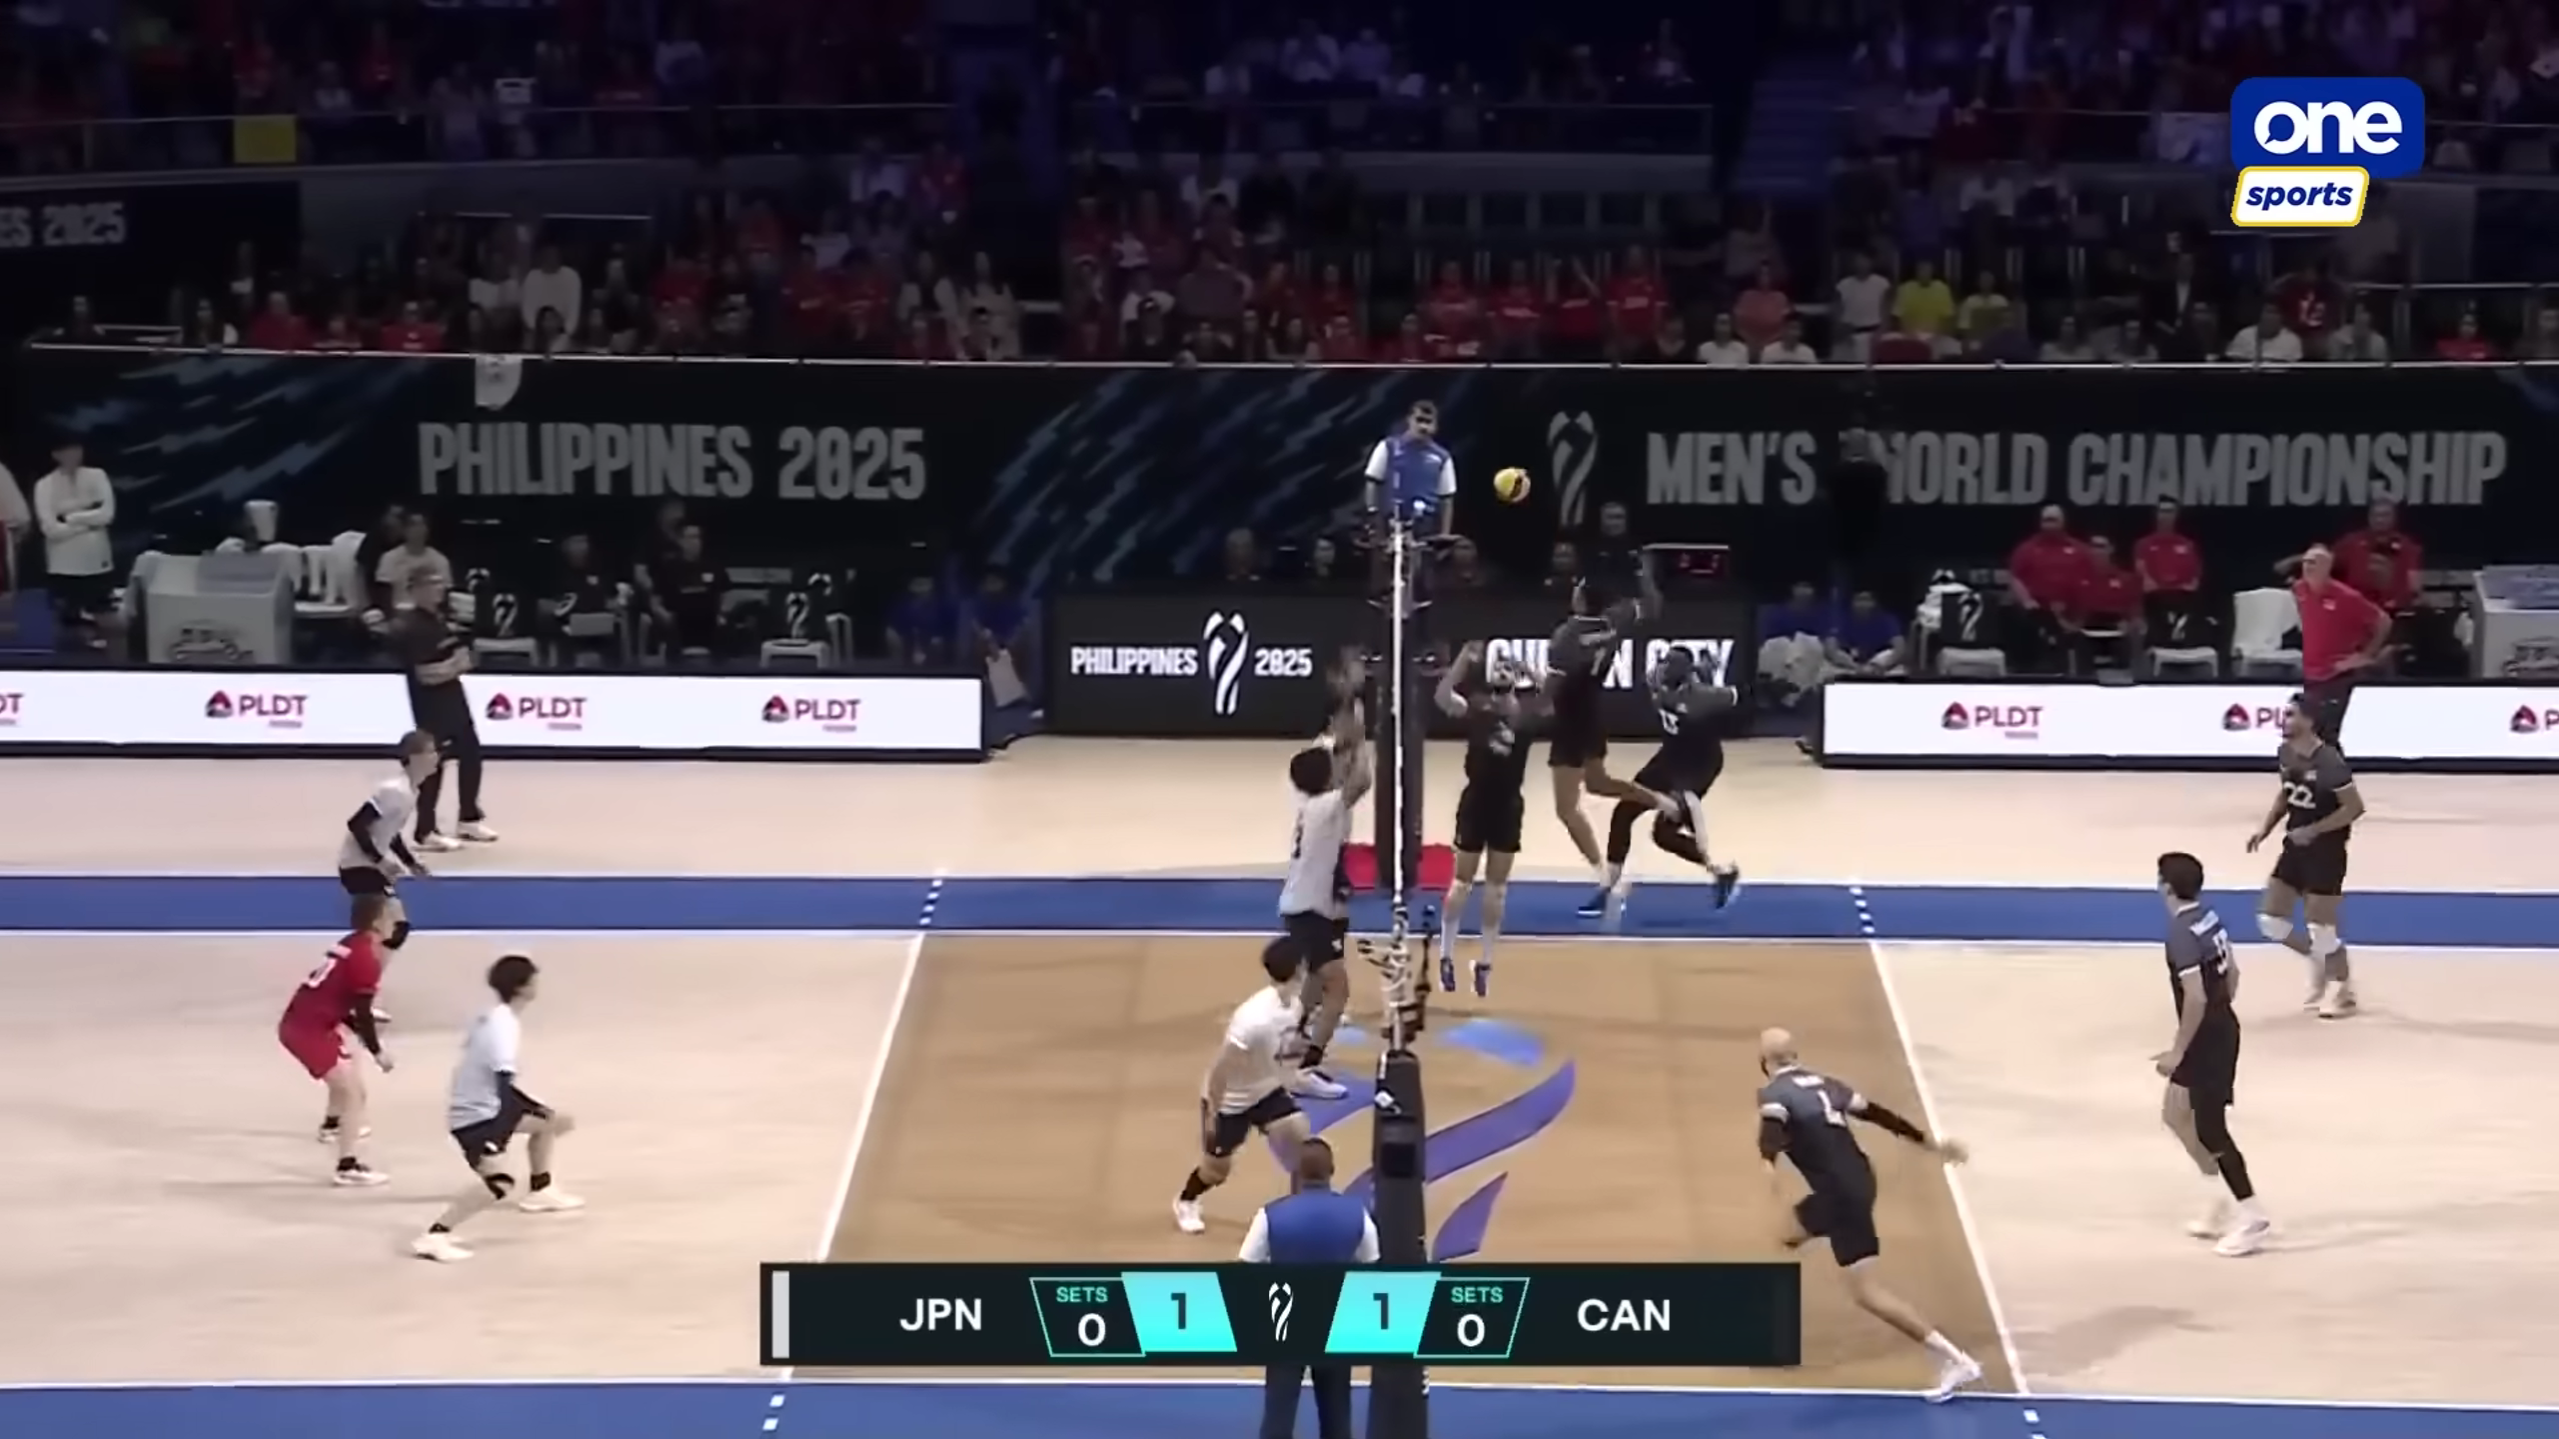Ball: (1490, 464, 1534, 506)
